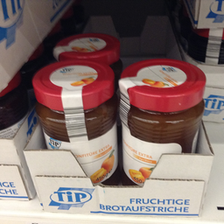jam: (117, 57, 207, 187), (32, 60, 120, 184)
